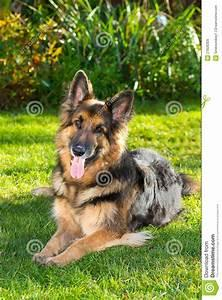dog: (30, 69, 198, 268)
